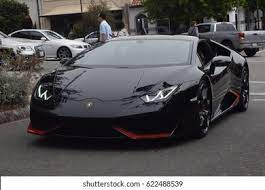Lamborghini: (31, 31, 250, 141)
